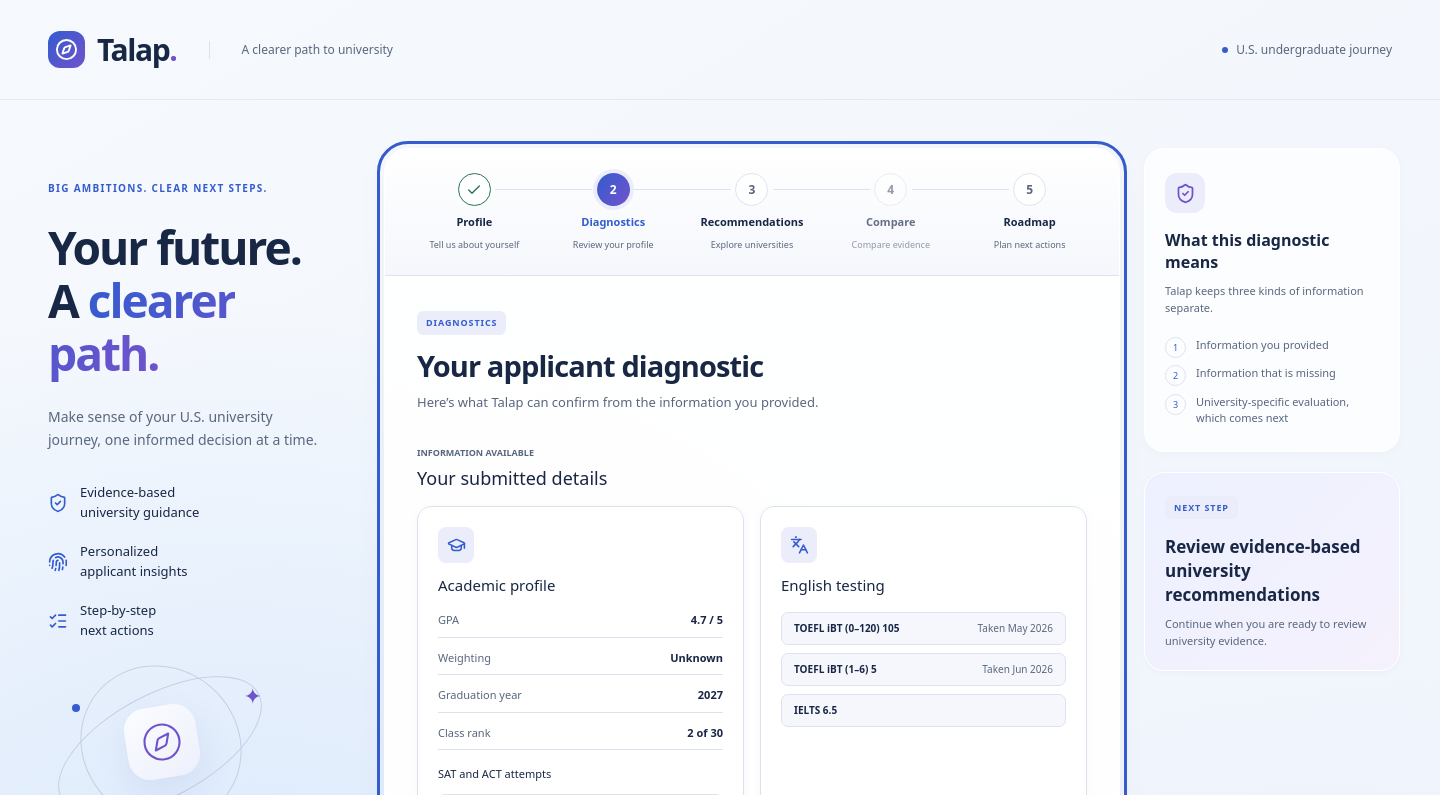
it: desktop foundation › navigates to the real roadmap without claiming compare completion
Expected: the heading "Your submitted details" is shown, x1=417 y1=466 x2=607 y2=490
Click the link "5 Roadmap Plan next actions" at [1030, 212], box x1=994 y1=173 x2=1066 y2=250
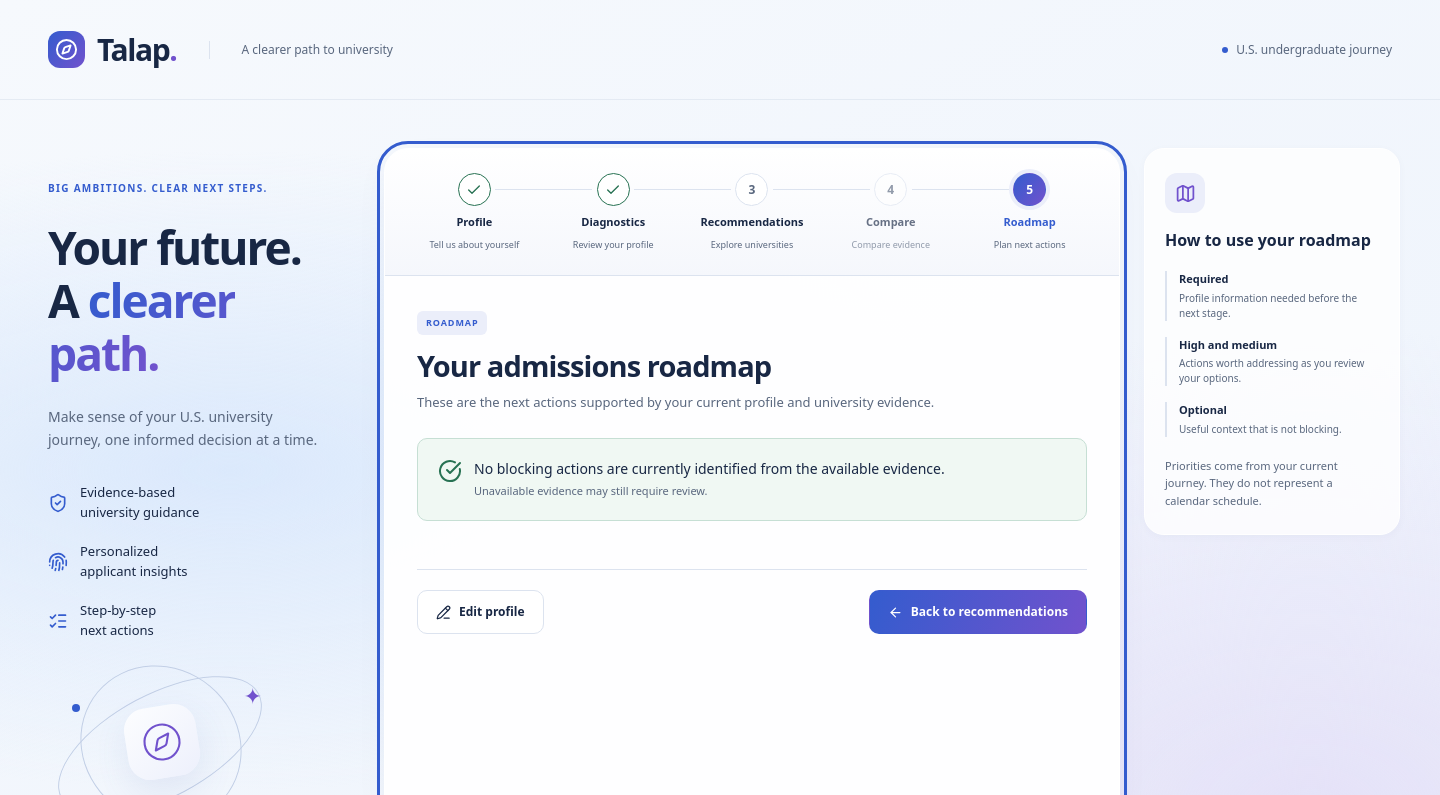
Now the heading "Your admissions roadmap" is shown, box x1=417 y1=346 x2=771 y2=385
Now the heading "No blocking actions are currently identified from the available evidence." is shown, box x1=474 y1=459 x2=945 y2=479
